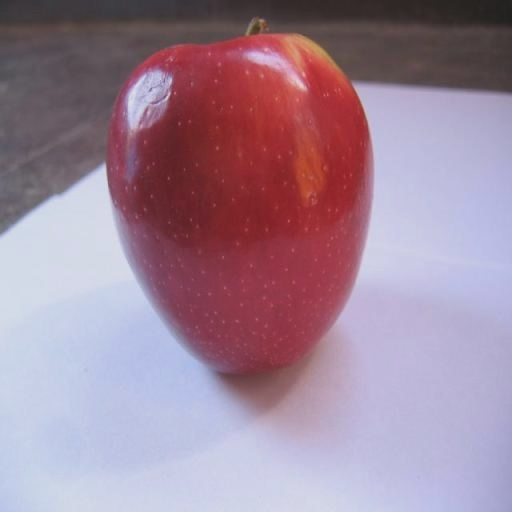fruit: (108, 34, 372, 373)
